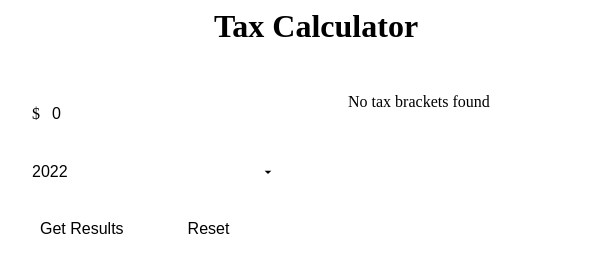
Test: App Component › handles income exactly on bracket boundaries
The image size is (599, 267).
Replace the text in the field with placeholder "income" with "10000" at (166, 114), box [48,93,284,135]
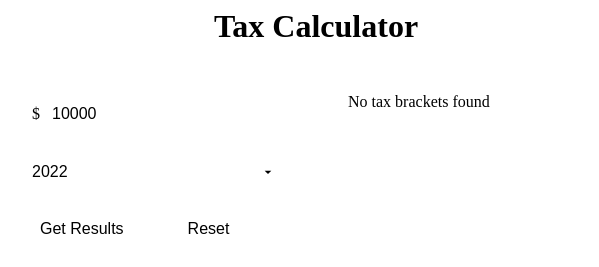
Click the button "Get Results" at (82, 229), box [16,208,148,250]
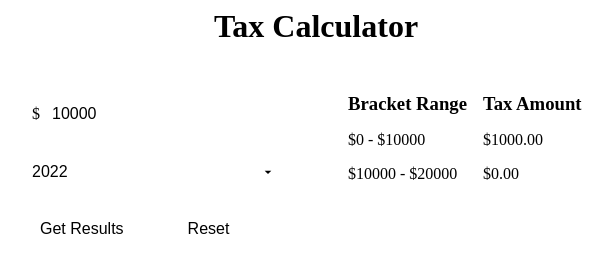
Check: the text "$0 - $10000" is shown, box [348,131,425,148]
Check: the text "$10000 - $20000" is shown, box [348,165,467,183]
Check: the text "$1000.00" is shown, box [483,131,543,148]
